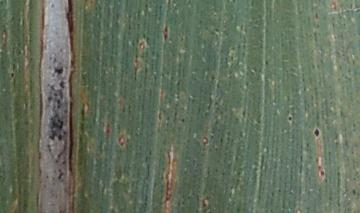tarspot: (284, 109, 296, 127), (310, 125, 323, 141), (319, 164, 328, 182), (8, 68, 17, 85), (351, 185, 360, 199), (312, 10, 322, 22), (180, 113, 188, 127)
